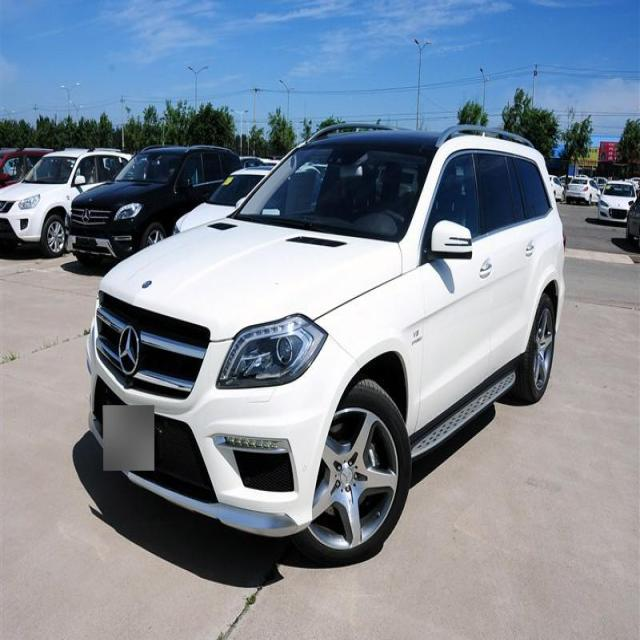back_left_side_light: (560, 224, 566, 255)
door: (479, 154, 547, 380)
front_bumper: (74, 377, 348, 541)
front_glass: (236, 138, 444, 240)
front_left_side_door: (409, 146, 494, 439)
front_left_side_light: (215, 312, 330, 390)
front_left_side_mirror: (430, 219, 472, 261)
wheel: (300, 384, 410, 560), (514, 286, 558, 405)
